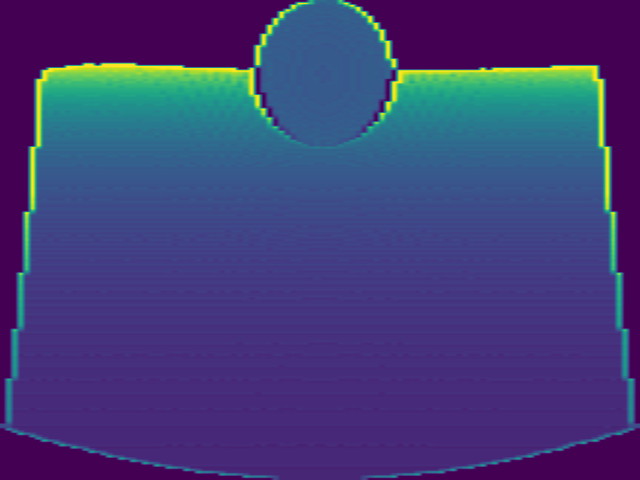sphere: (250, 2, 398, 148)
